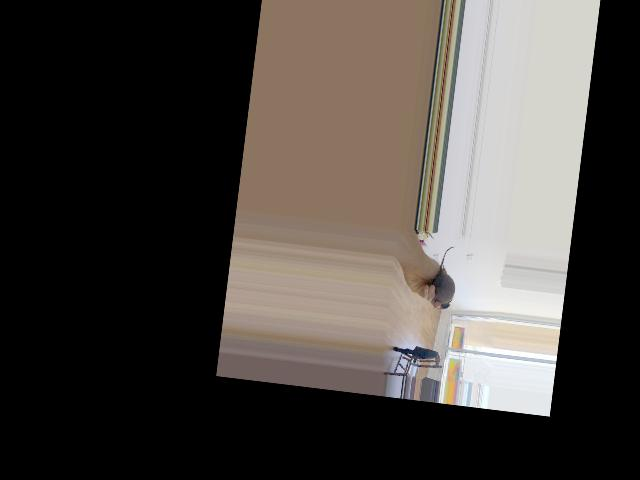beet: (431, 245, 459, 311)
